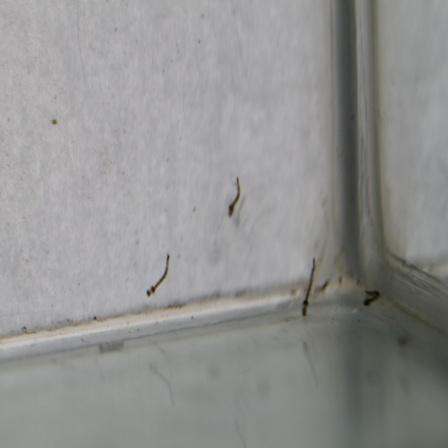Jentik-Nyamuk: (144, 252, 173, 300), (298, 255, 318, 320), (223, 172, 245, 223), (359, 286, 383, 308)
